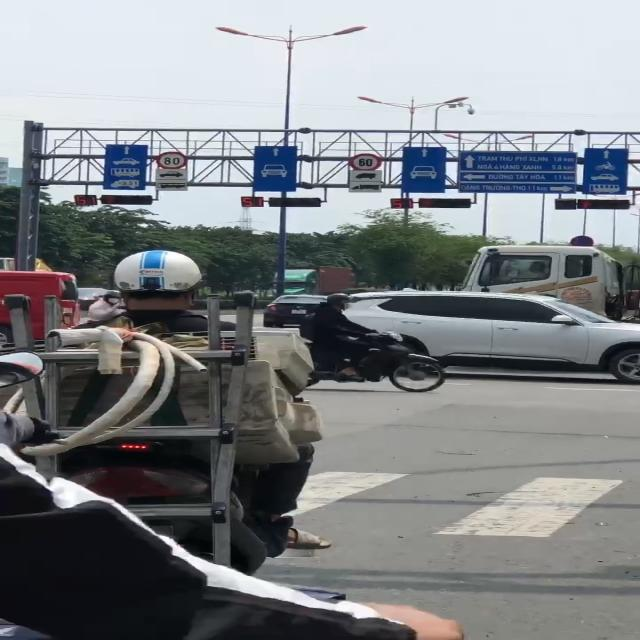Bien bao toc do toi da cho phep: (154, 150, 194, 171), (346, 152, 384, 172)
